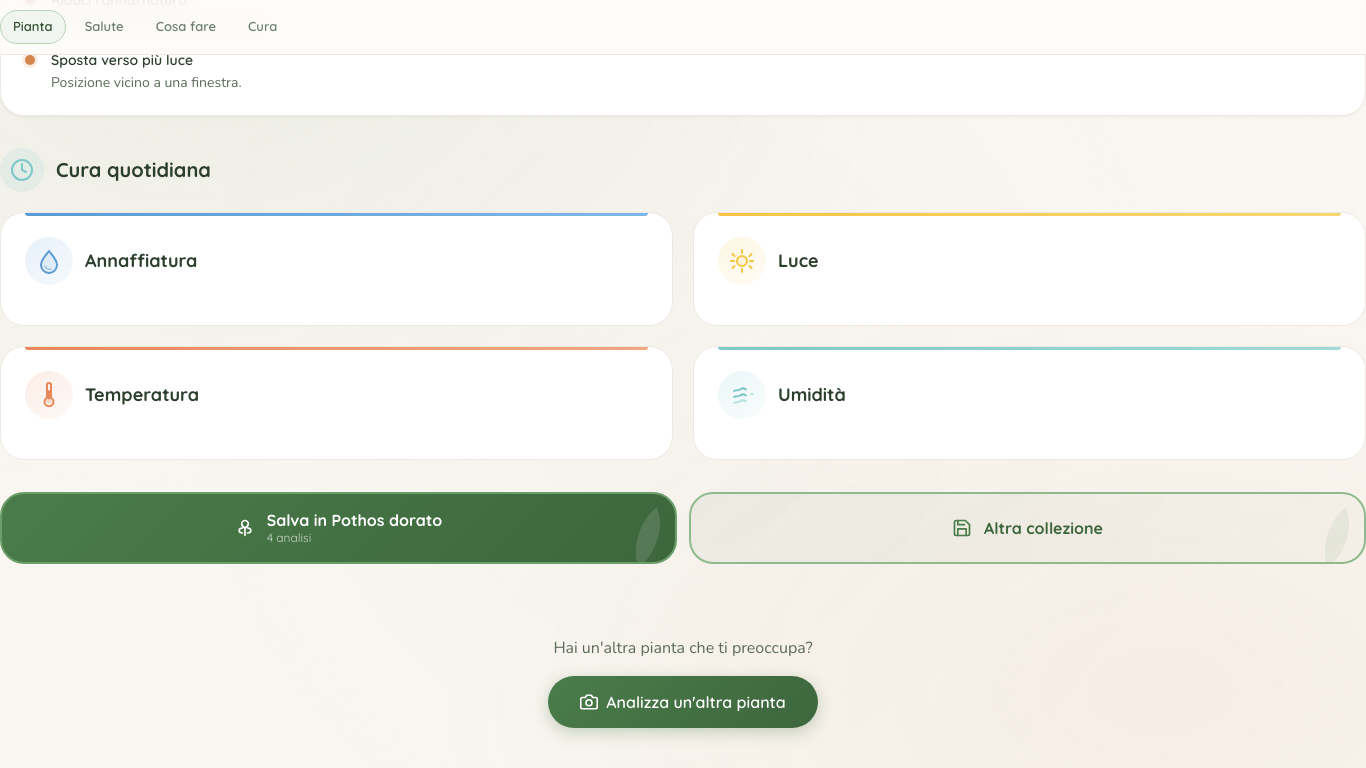
it: Flusso completo: selettore collezione con ricerca e salvataggio › mostra il campo di ricerca quando ci sono almeno 3 collezioni
(page scrolled)
What coordinates should you click on to do the following:
click the button "Altra collezione"
I would click on:
 (1028, 528)
Its box is [689,492,1365,564].
(page scrolled)
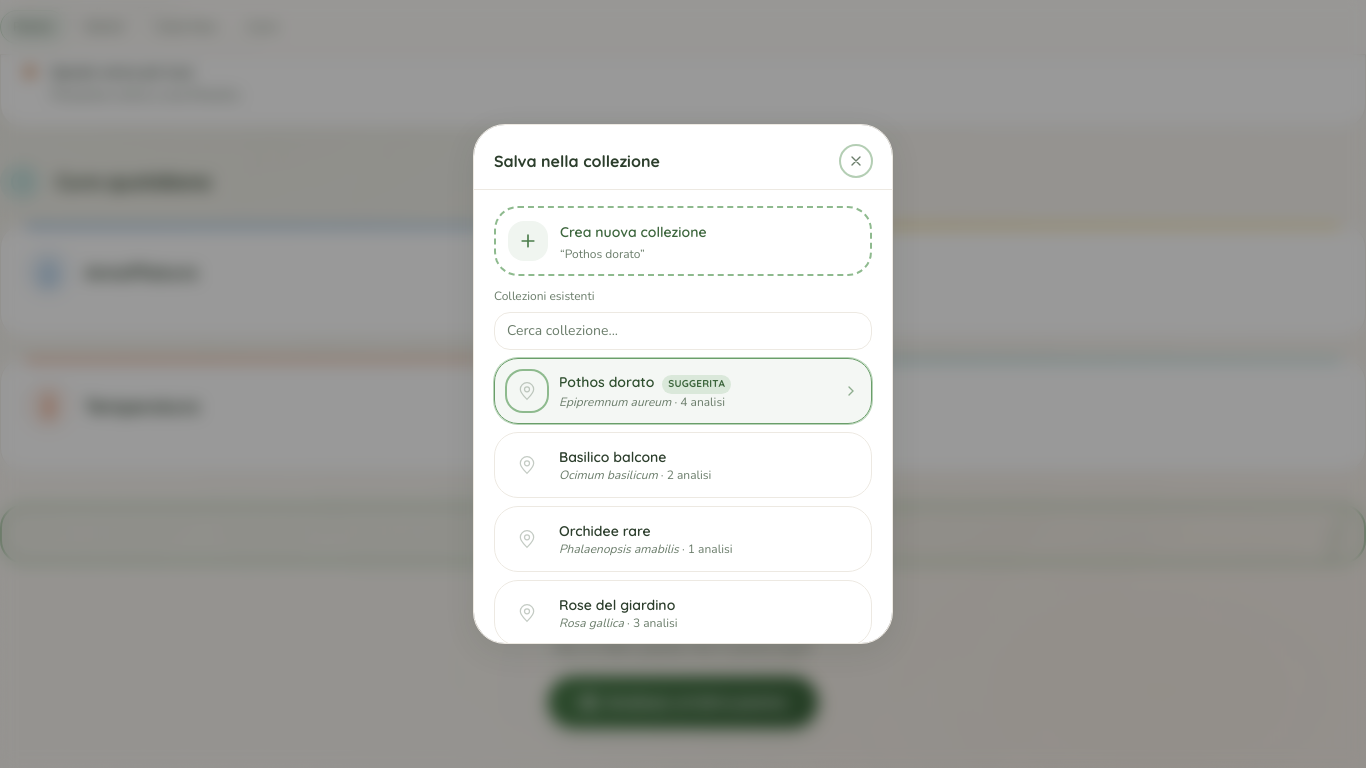
Expected: the text "Collezioni esistenti" is shown, [494,288,594,304]
Expected: the field with placeholder "Cerca collezione..." is shown, [494,312,872,350]
